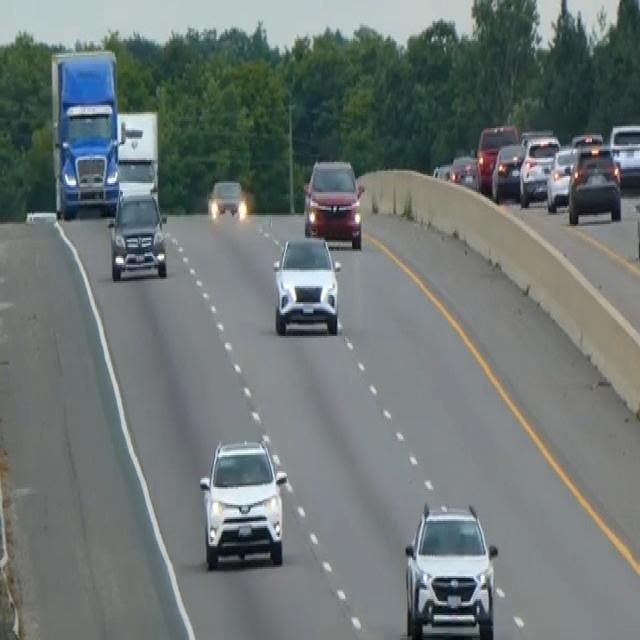car: (402, 498, 498, 638), (271, 233, 341, 336), (107, 183, 168, 281), (302, 155, 365, 249), (567, 142, 622, 224), (475, 121, 518, 192), (518, 134, 560, 206), (545, 144, 576, 212), (490, 140, 524, 201), (608, 121, 639, 187), (207, 176, 246, 222), (448, 151, 478, 190), (570, 130, 603, 149), (432, 158, 452, 183)
jeep: (196, 432, 289, 571)
lorry: (48, 46, 125, 219)
